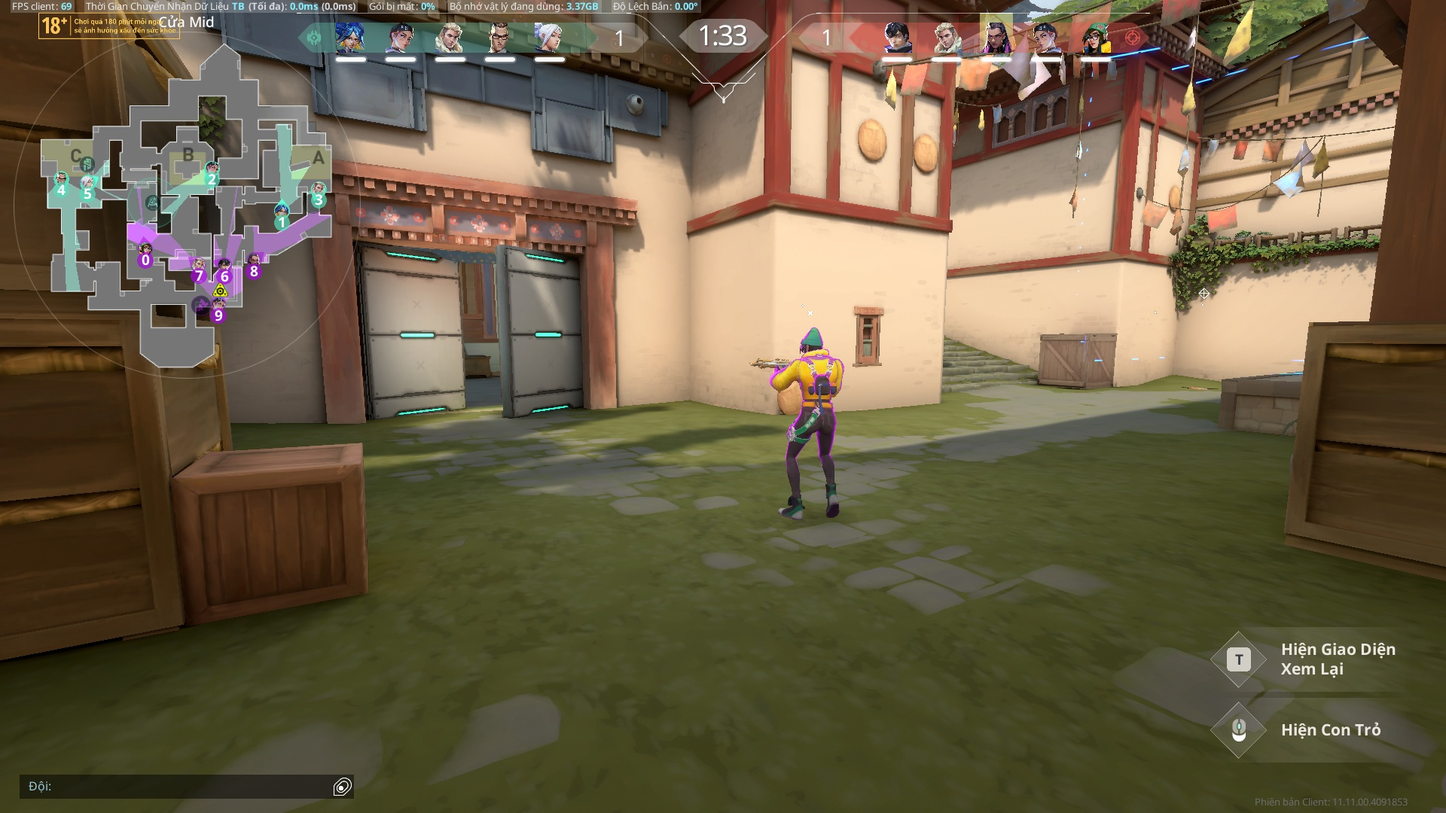body: (792, 352, 842, 403)
head: (799, 337, 825, 356)
